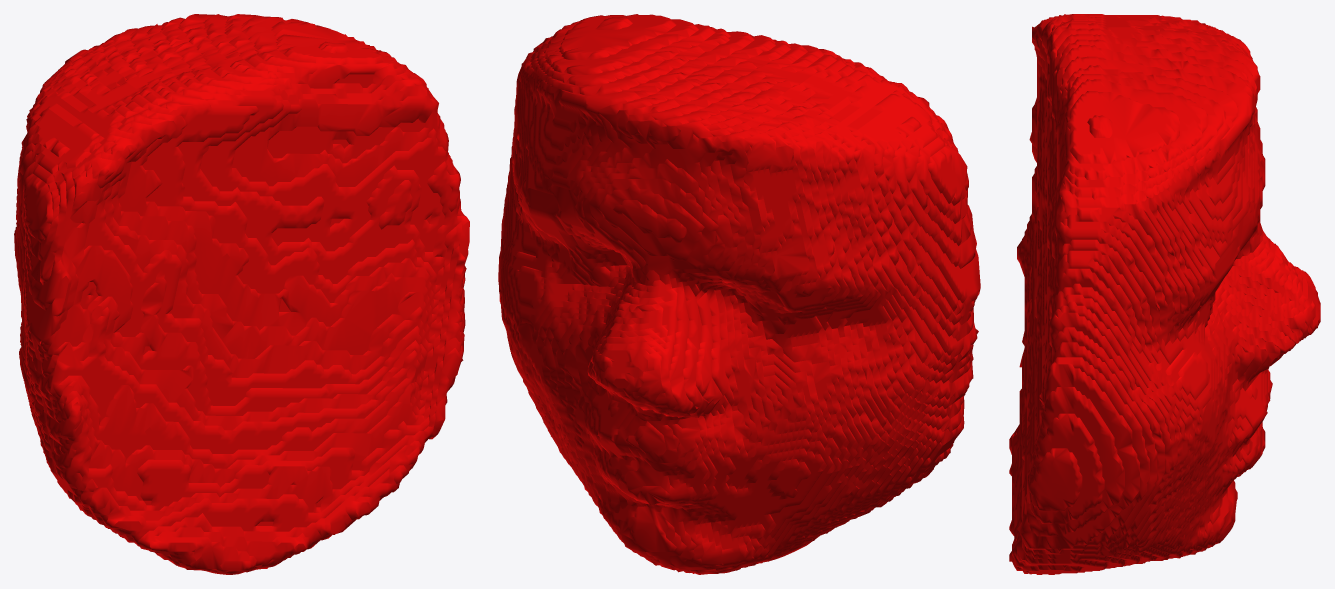
The model's file is BabyTestFace.fbx.
3 renders of one model, left to right at view 1: azimuth 30°, elevation 25°; view 2: azimuth 150°, elevation 25°; view 3: azimuth 270°, elevation 25°, orthographic. The views are drawn at different scales.
Parts seen in each view (by area): view 1: e20618ba723d453b12645d6ffffd3c:Mesh; view 2: e20618ba723d453b12645d6ffffd3c:Mesh; view 3: e20618ba723d453b12645d6ffffd3c:Mesh.
Boxes of the visible parts, x1=… form: e20618ba723d453b12645d6ffffd3c:Mesh: x1=14, y1=14, x2=469, y2=574; e20618ba723d453b12645d6ffffd3c:Mesh: x1=498, y1=14, x2=980, y2=574; e20618ba723d453b12645d6ffffd3c:Mesh: x1=1009, y1=14, x2=1320, y2=574.
Bounding box in the file's own units: 103 × 110 × 62.
